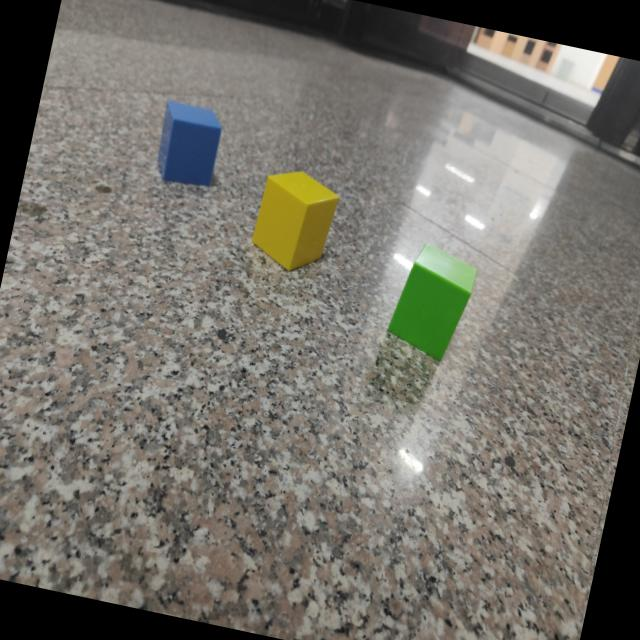blue: (157, 100, 222, 188)
green: (386, 245, 475, 362)
yellow: (251, 172, 338, 272)
